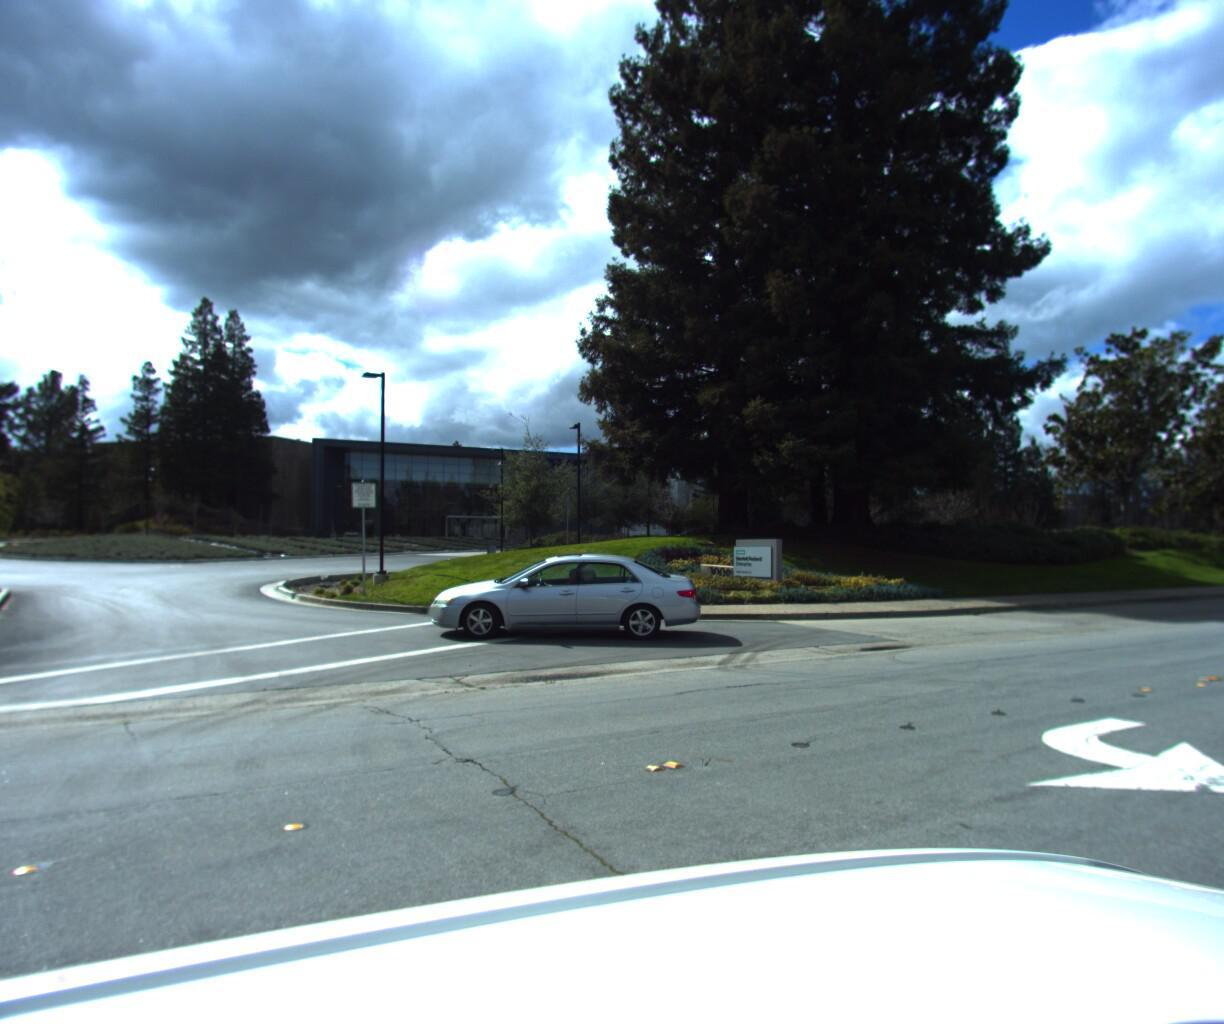car: (422, 552, 698, 647)
